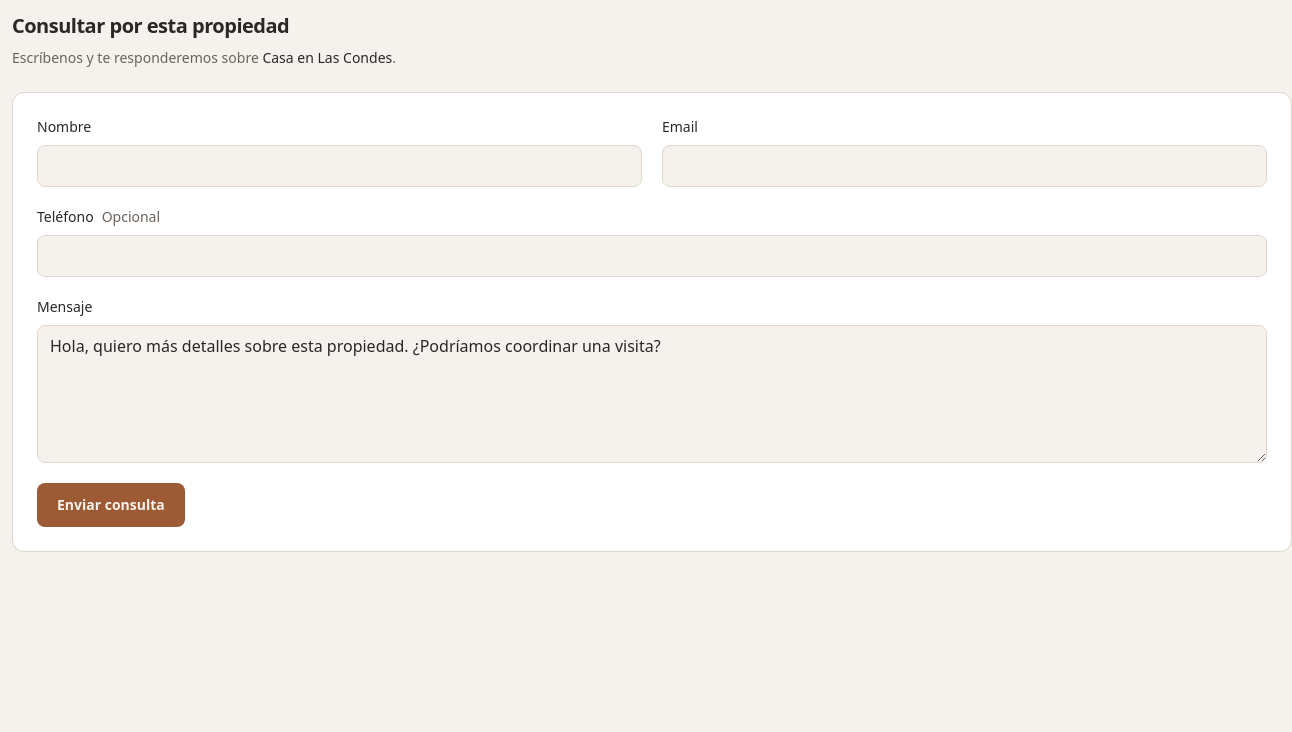
Test: PropertyContactForm › confirma el envío y vacía el formulario
Step 1. Type "Ana Pérez" into the field labelled "Nombre" → (340, 166), box [37, 145, 642, 187]
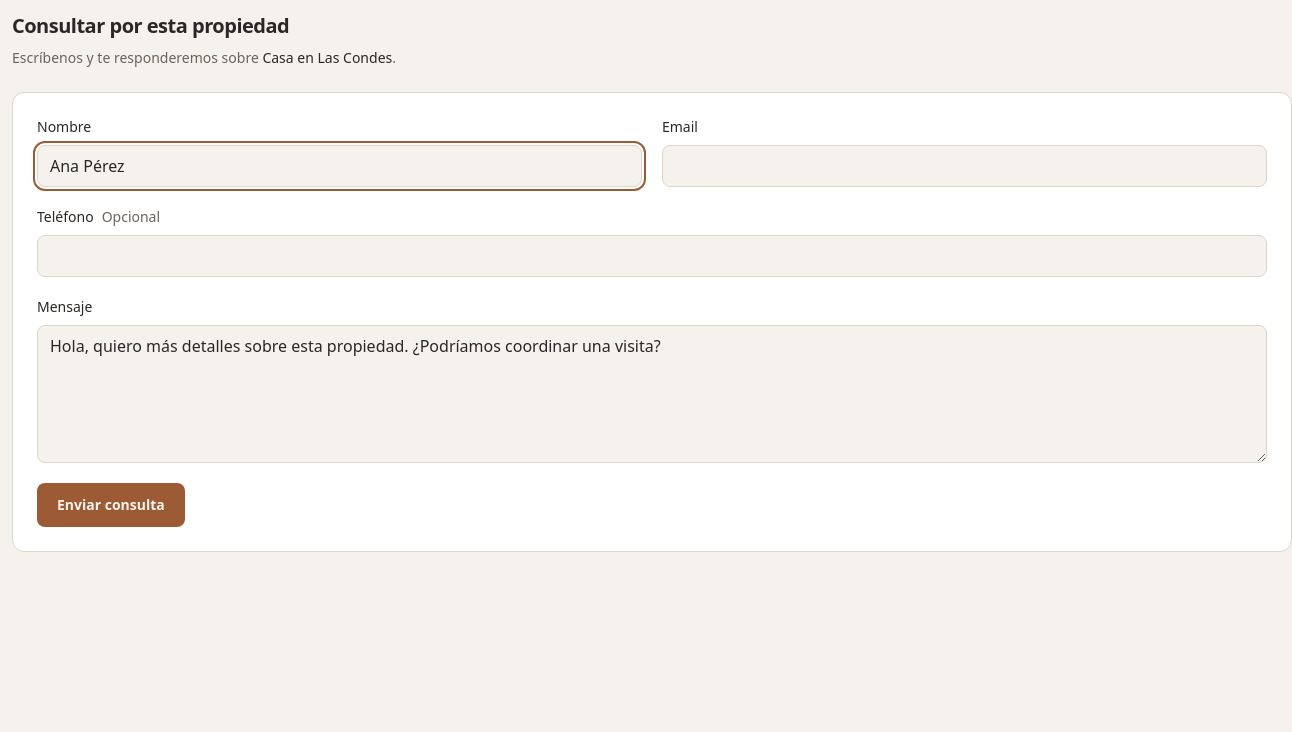
Step 2. Type "ana@example.com" into the field labelled "Email" → (964, 166), box [662, 145, 1267, 187]
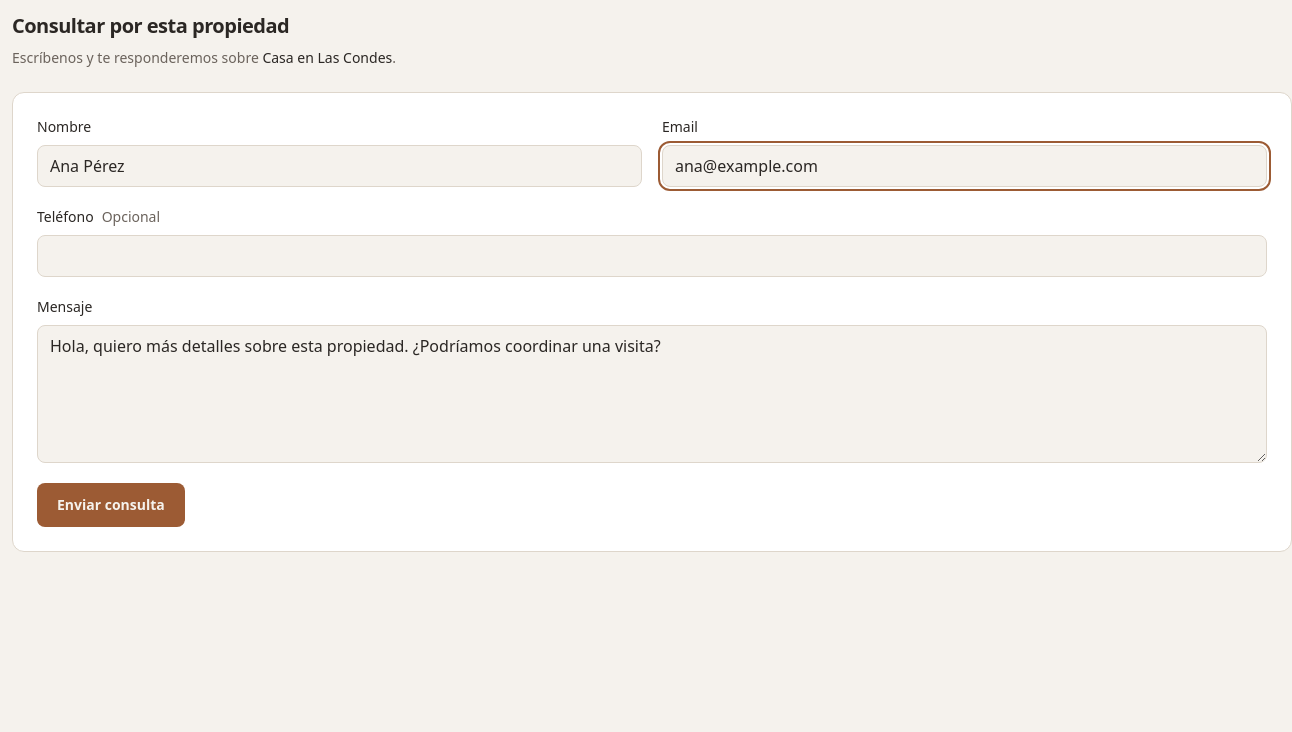
Step 3. Click the button "Enviar consulta" → (111, 505), box [37, 483, 185, 527]
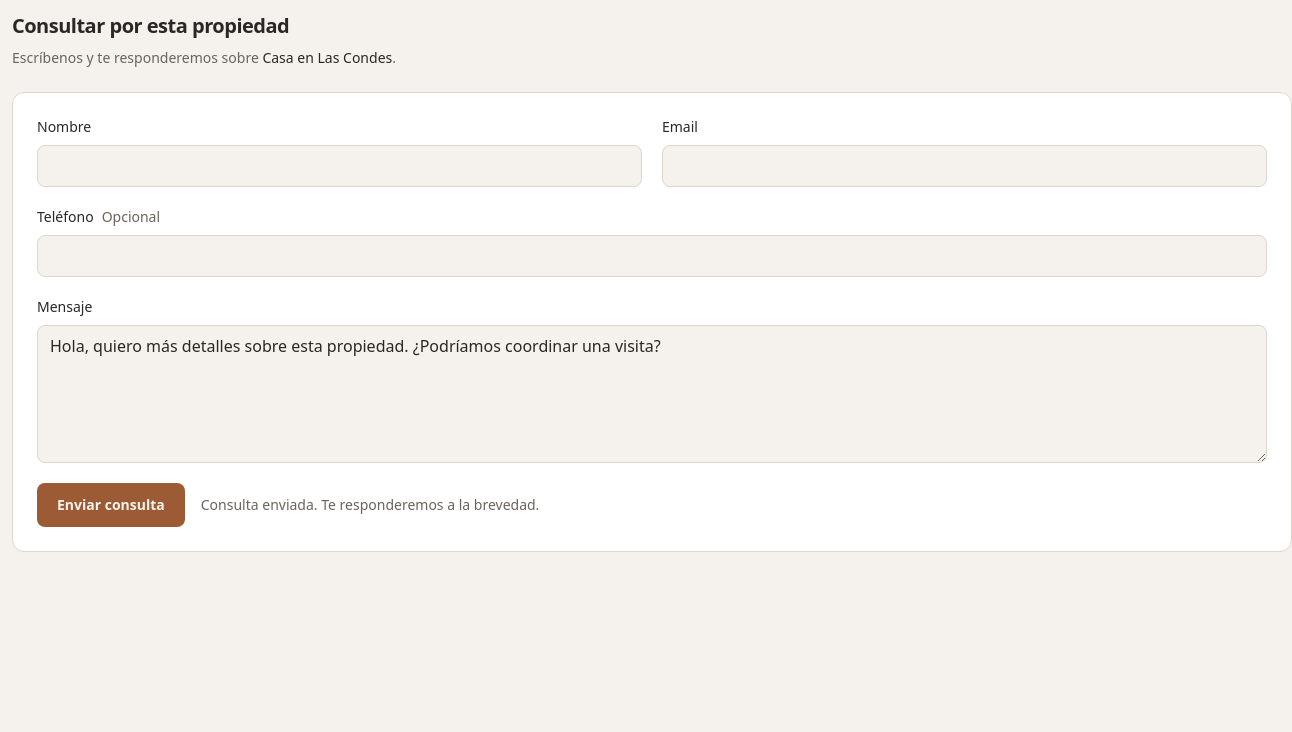
expect the text box labelled "Mensaje" holds "Hola, quiero más detalles sobre esta propiedad. ¿Podríamos coordinar una visita?": met, box [37, 325, 1267, 463]
expect the text "Consulta enviada. Te responderemos a la brevedad." is shown: met, box [201, 495, 539, 515]
expect the field labelled "Nombre" is empty: met, box [37, 145, 642, 187]
